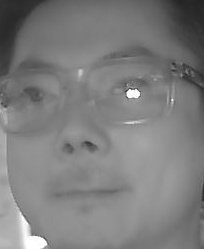glass: (80, 58, 173, 126), (2, 68, 65, 135)
mouth: (53, 176, 122, 210)
